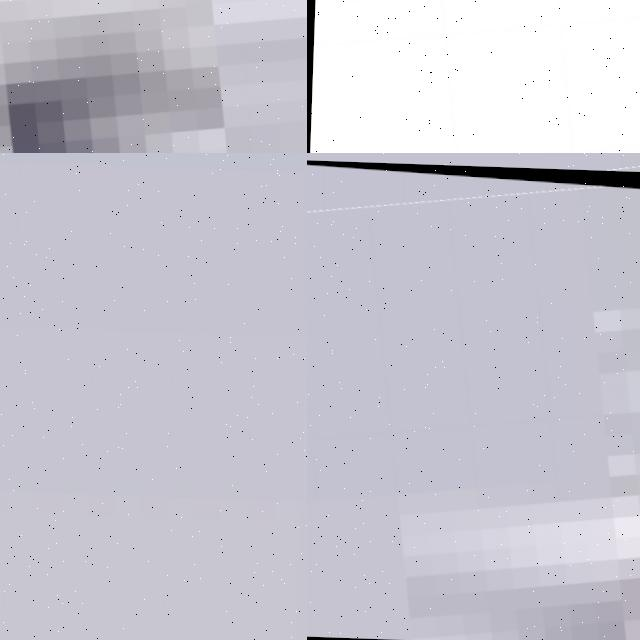drone: (307, 155, 640, 640), (307, 0, 640, 153), (0, 0, 307, 153)
